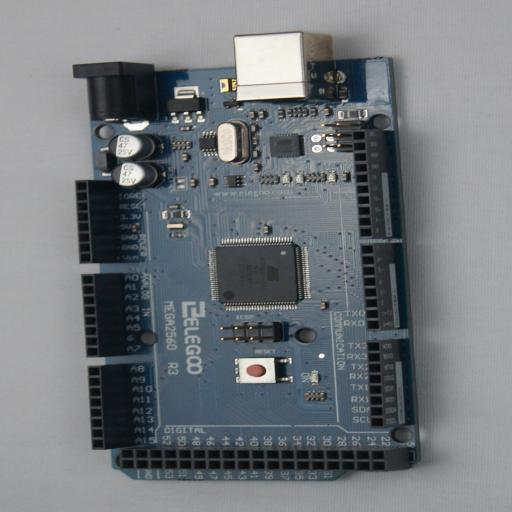Arduino Mega 2560 -Blue-: (73, 35, 436, 481)
